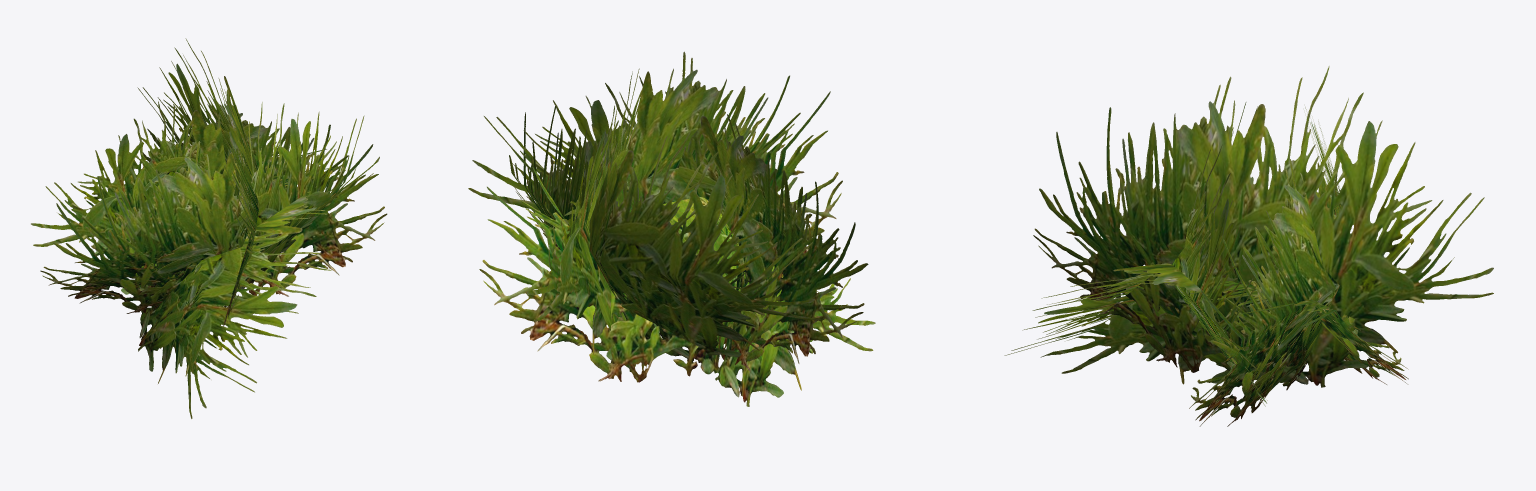
File: LE_Grass01.fbx
3 renders of one model, left to right at view 1: azimuth 30°, elevation 25°; view 2: azimuth 150°, elevation 25°; view 3: azimuth 270°, elevation 25°, orthographic. The views are drawn at different scales.
Visible parts, largest first — view 1: Mesh Object; view 2: Mesh Object; view 3: Mesh Object.
Part boxes in pixels (x1=…): Mesh Object: x1=31, y1=38, x2=387, y2=418; Mesh Object: x1=468, y1=51, x2=875, y2=406; Mesh Object: x1=1004, y1=66, x2=1493, y2=426.
Bounding box in the file's own units: 0.3671 × 0.3567 × 0.4142.
